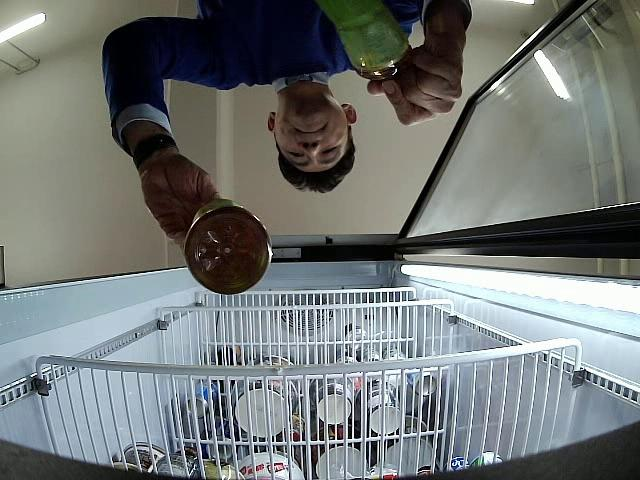00_hand: (368, 52, 464, 127), (139, 160, 219, 246)
19_17cha: (182, 203, 271, 296), (320, 1, 411, 78)
